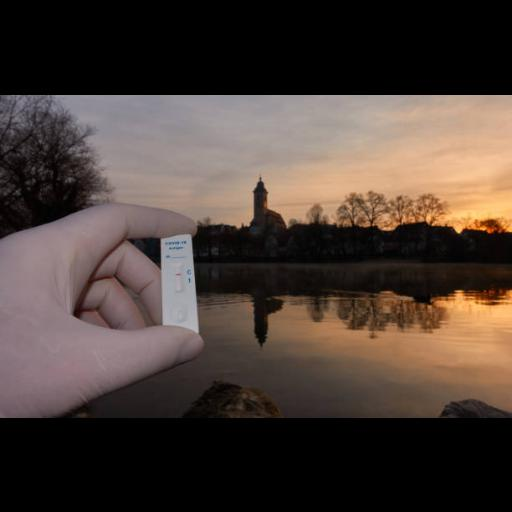Neg: (161, 233, 199, 335)
